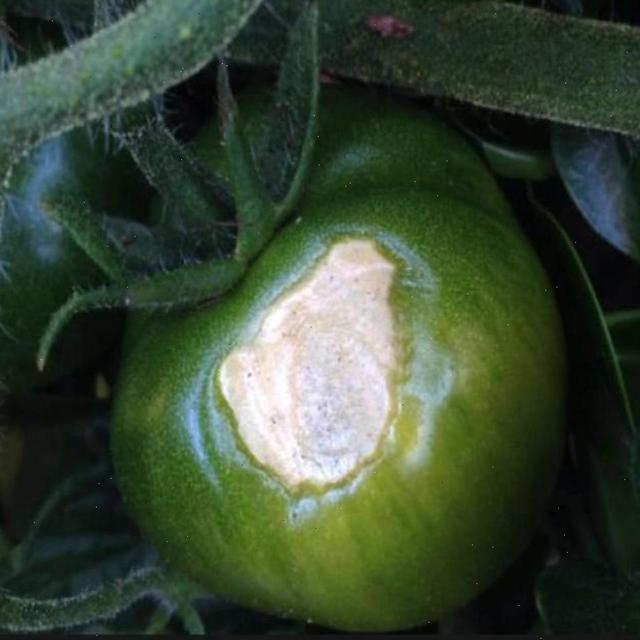Sunscald Fruit: (132, 153, 293, 331)
